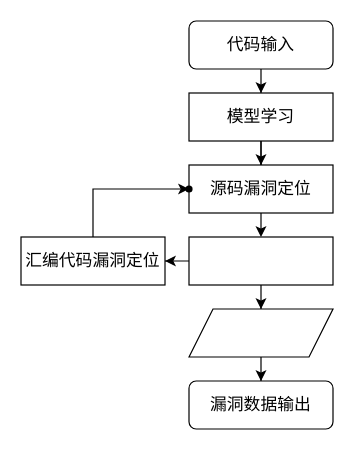
This 354x450 diagram has some shape labels left out. Here are the shapes that lost their labels. From the top down, the box of each, then its label:
(188, 236, 333, 285): 导向型模糊测试
(188, 308, 333, 357): 漏洞触发数据
